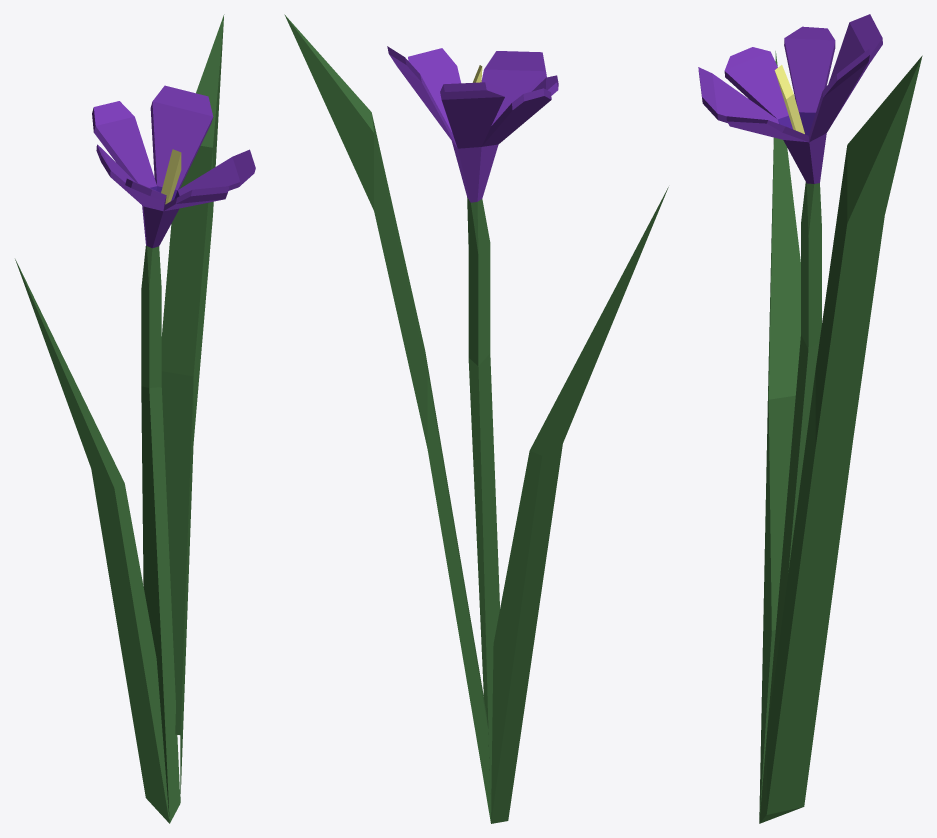
Rendered from flowerKrokus01.gltf.
The picture shows the model from 3 angles, left to right: view 1: azimuth 30°, elevation 25°; view 2: azimuth 150°, elevation 25°; view 3: azimuth 270°, elevation 25°; orthographic projection. The views are drawn at different scales.
Visible parts, largest first — view 1: Cylinder; view 2: Cylinder; view 3: Cylinder.
Boxes of the visible parts, box(x1,y1,x2,y2) form: Cylinder: box(15, 14, 255, 823); Cylinder: box(284, 14, 668, 823); Cylinder: box(698, 14, 922, 823).
Bounding box in the file's own units: 0.1987 × 0.5046 × 0.1222.
Materials: 1 (1 with a texture image).
